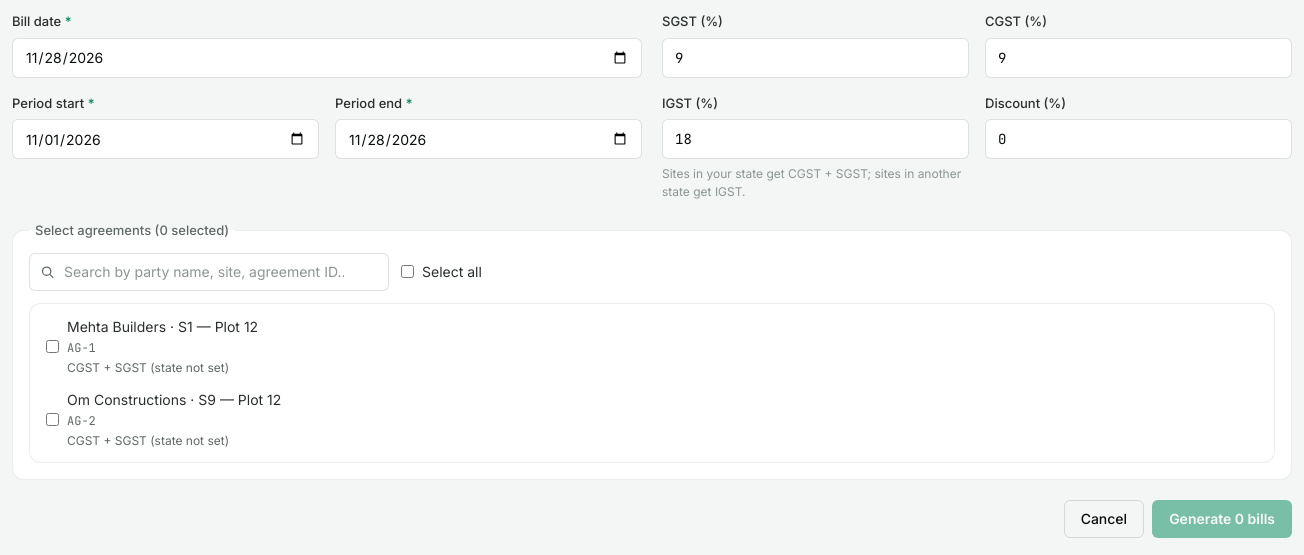
Scenario: BulkBillForm › fills the period end with the last day of the start month
This screenshot has width=1304, height=555.
Type "2026-06-01" into the date field labelled "Period start *" at (166, 139), box [12, 119, 319, 159]
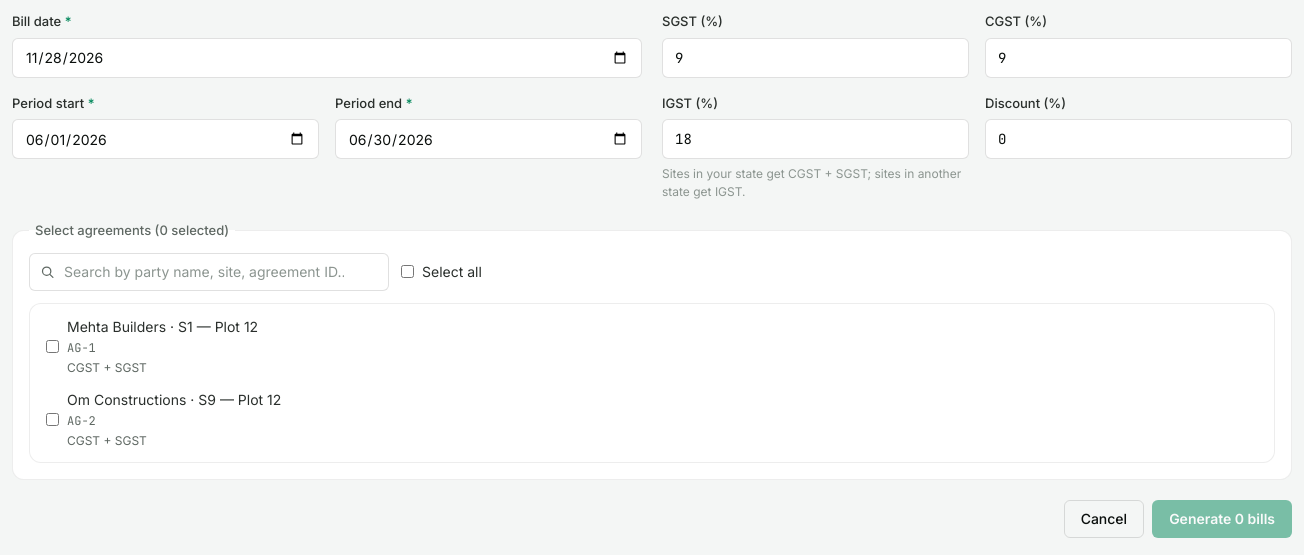
Now the date field labelled "Period end *" holds "2026-06-30", box [335, 119, 642, 159]
